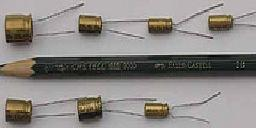Electrolytic Capacitor: (144, 90, 228, 128), (2, 9, 77, 47), (76, 11, 151, 48), (146, 12, 202, 43), (209, 13, 236, 31)
